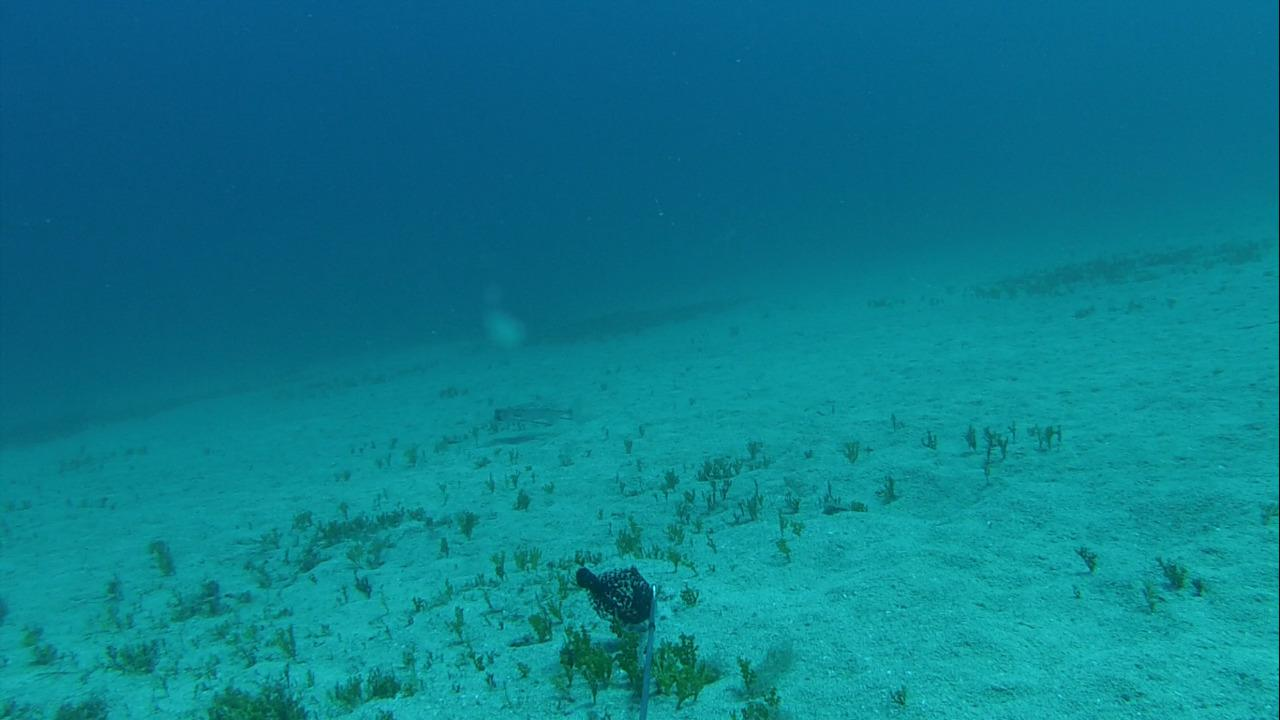dactylopterus: (479, 397, 584, 433)
